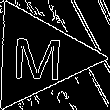M_N: (11, 30, 65, 82)
